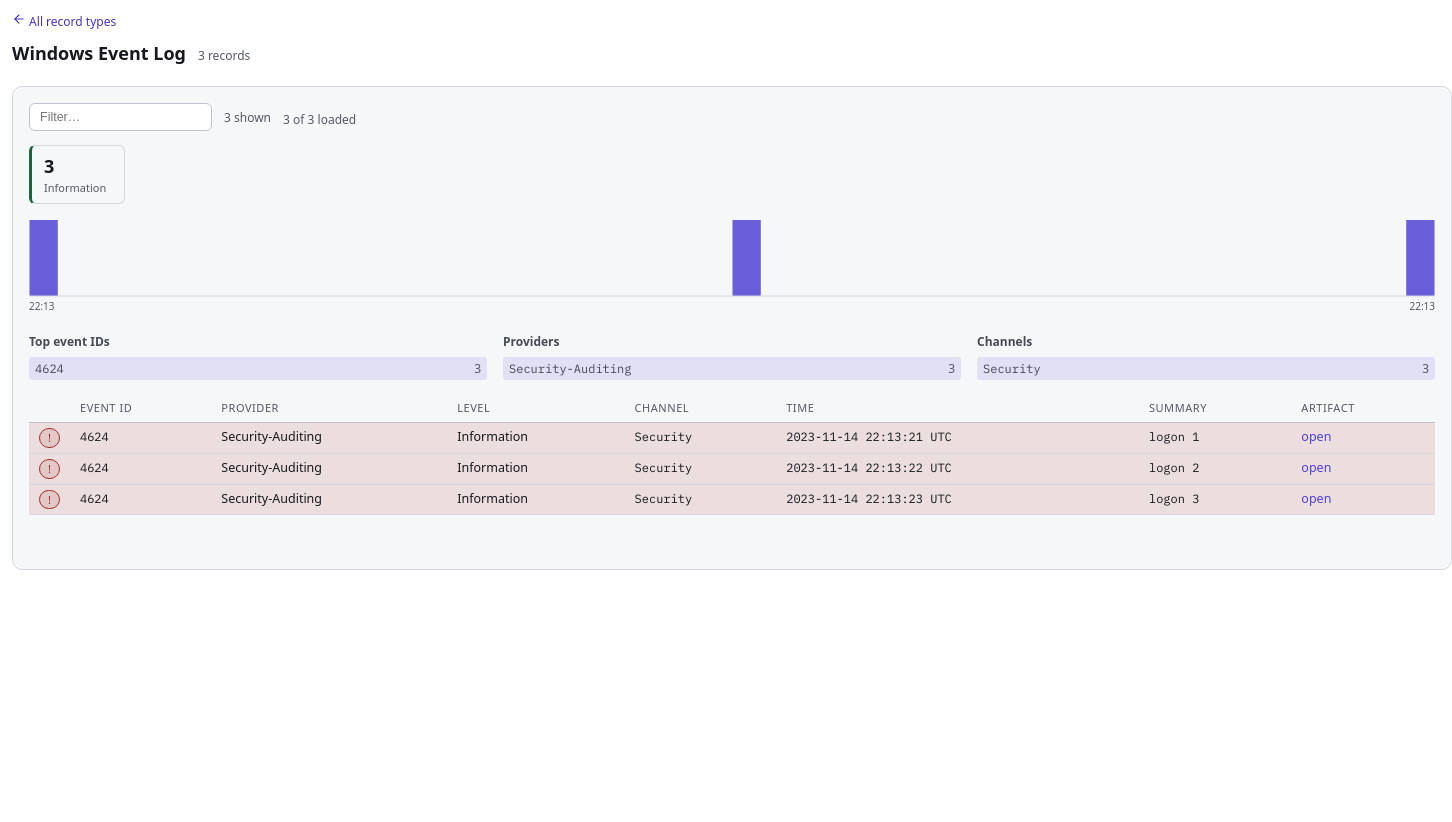
it: rich record viewer: the Filter box queries the case › states the matching population and the type population side by side
The width and height of the screenshot is (1452, 822).
Step 1. Type "logon" into the field named "Filter " → (120, 118), box top-left (29, 104), bottom-right (212, 132)
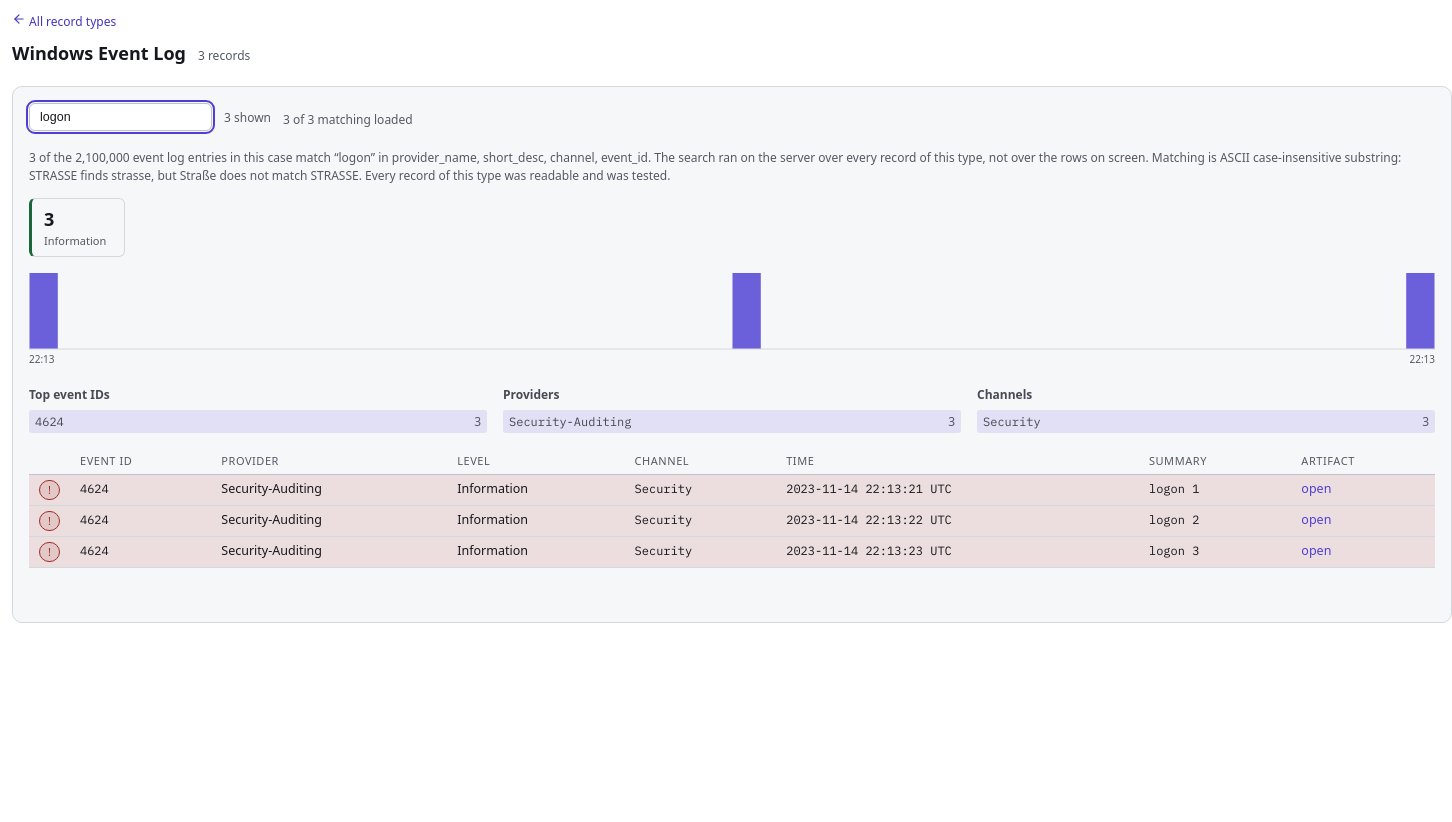
Expected: the text with test id "rv-search-scope" shows "3", top-left (29, 150), bottom-right (36, 166)
Expected: the text with test id "rv-search-scope" shows "2,100,000", top-left (75, 150), bottom-right (130, 166)
